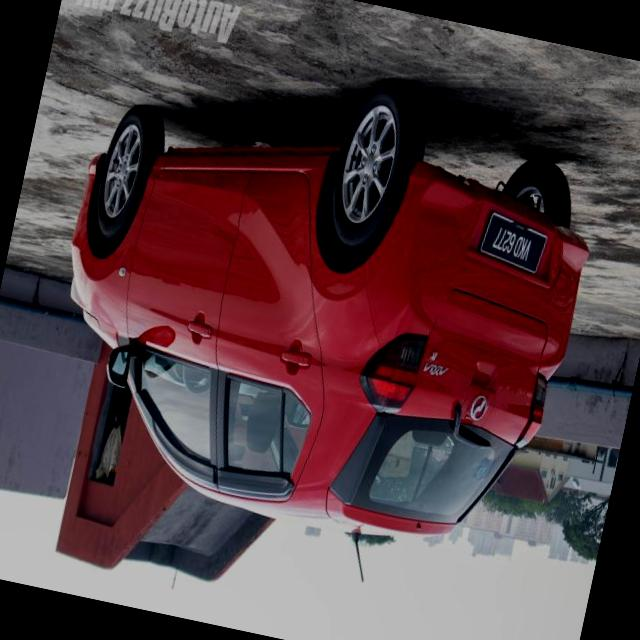PeroduaAxia: (13, 21, 617, 614)
